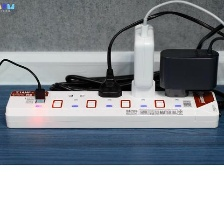three_eye_plug: (1, 85, 222, 131)
